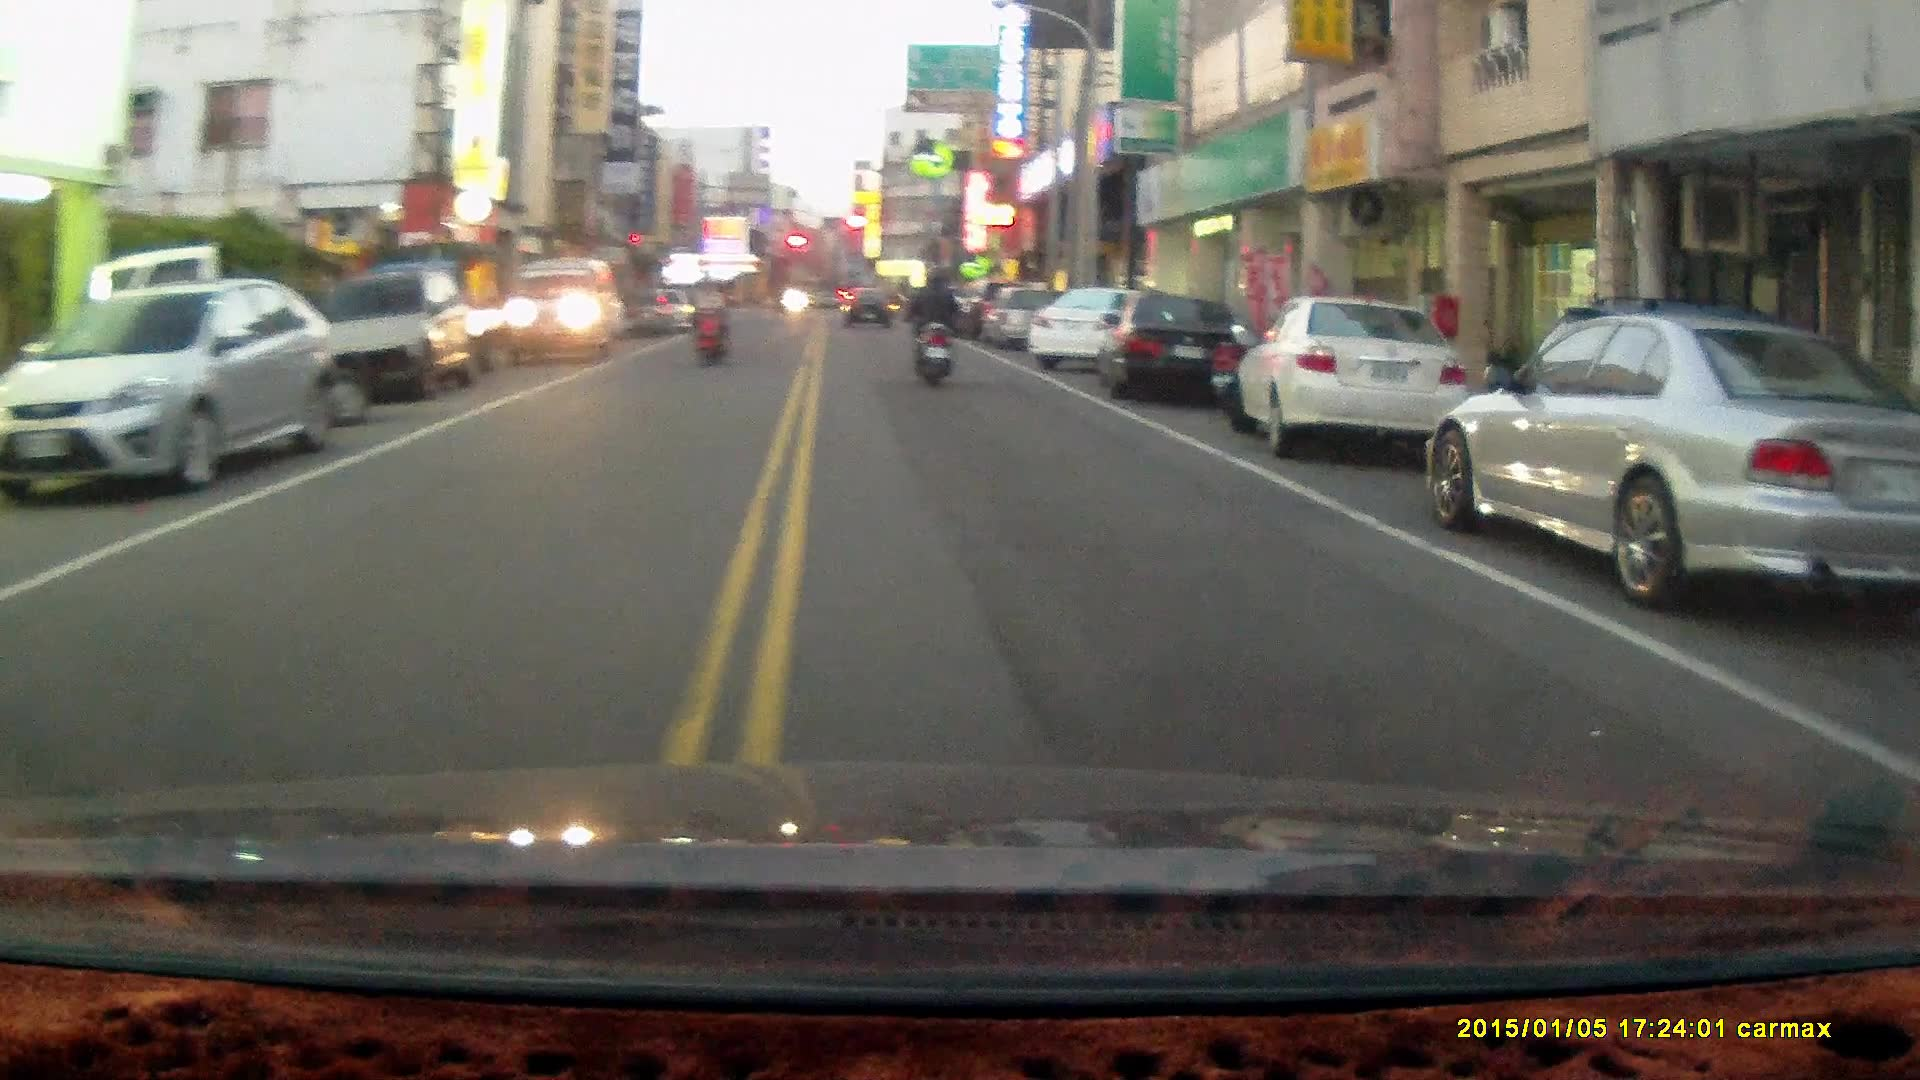rider: (906, 267, 956, 391), (692, 278, 730, 369)
vehicle: (1430, 309, 1918, 612), (1, 277, 339, 501), (1218, 295, 1472, 455), (315, 270, 467, 407), (1098, 290, 1246, 405), (504, 255, 621, 368), (1024, 287, 1162, 376)
